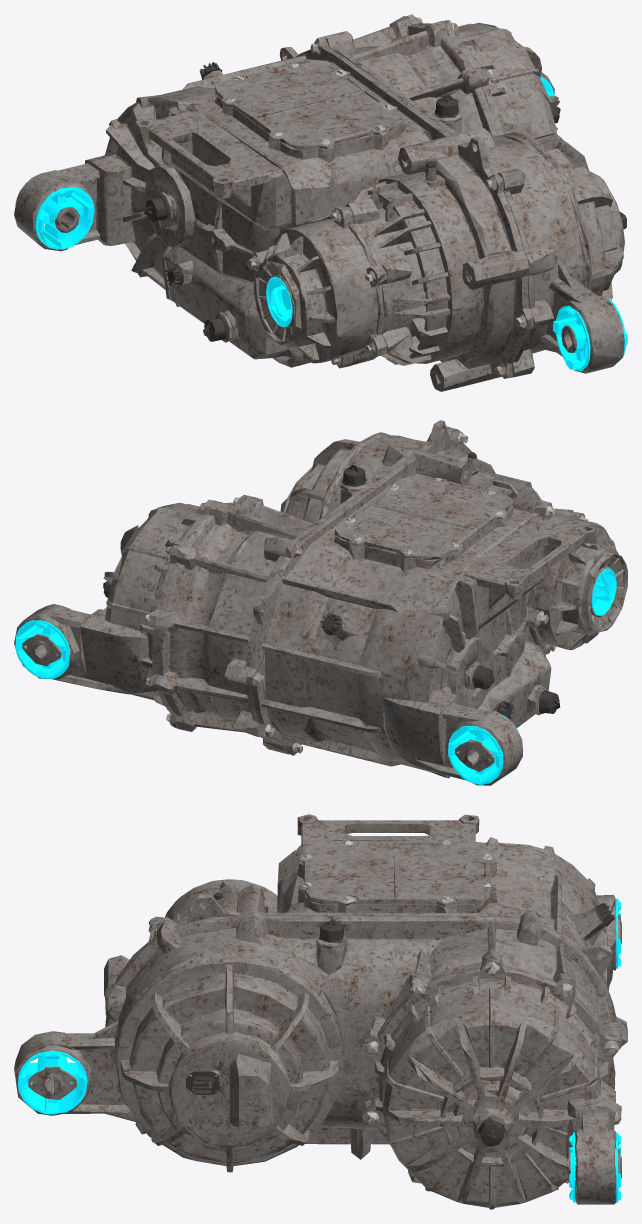
The model's file is craft_r20_dynamo_heart.glb.
3 renders of one model, top to bottom at view 1: azimuth 30°, elevation 25°; view 2: azimuth 150°, elevation 25°; view 3: azimuth 270°, elevation 25°, orthographic. The views are drawn at different scales.
Visible parts, largest first — view 1: craft_r20_dynamo_heart; view 2: craft_r20_dynamo_heart; view 3: craft_r20_dynamo_heart.
Boxes of the visible parts, box(x1,y1,x2,y2) form: craft_r20_dynamo_heart: box(14, 14, 627, 391); craft_r20_dynamo_heart: box(14, 420, 627, 785); craft_r20_dynamo_heart: box(14, 814, 627, 1209).
Bounding box in the file's own units: 0.6378 × 0.2848 × 0.6207.
Materials: 4 (3 with a texture image).
